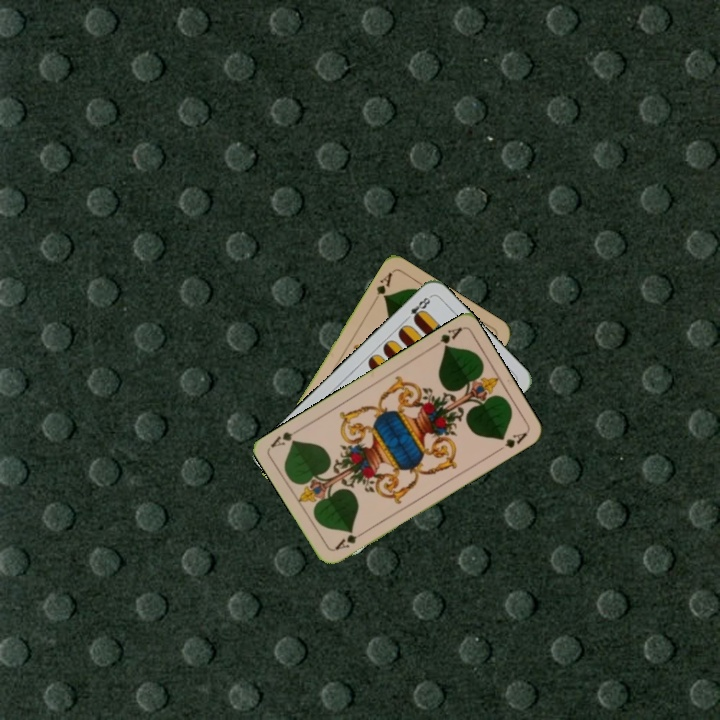E8: (401, 292, 434, 324)
GA: (427, 324, 464, 351), (369, 268, 395, 305), (331, 527, 367, 553)
